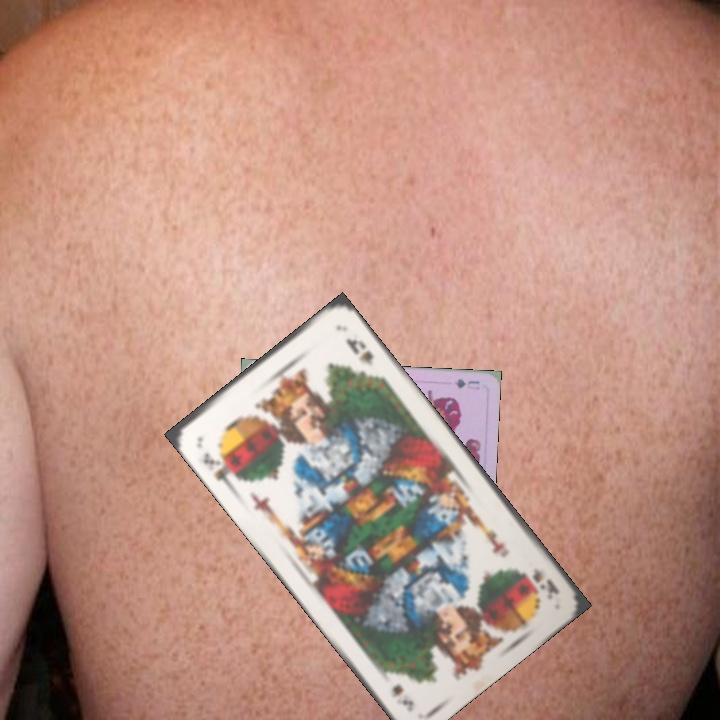GU: (450, 375, 482, 392)
SK: (199, 448, 242, 488), (528, 564, 562, 603)
